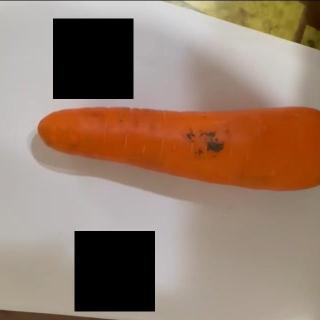carrot: (38, 104, 320, 192)
